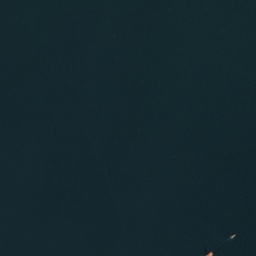Ship: (230, 234, 236, 239)
